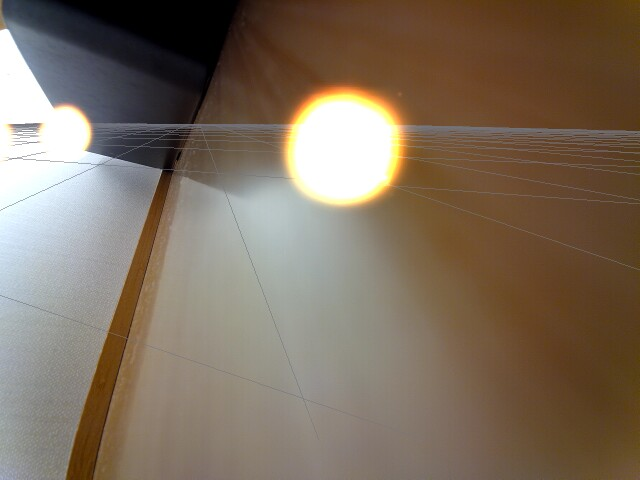firebig: (252, 71, 426, 226)
